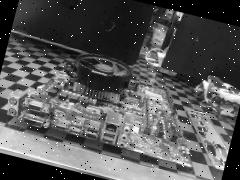electronic: (0, 17, 225, 180)
